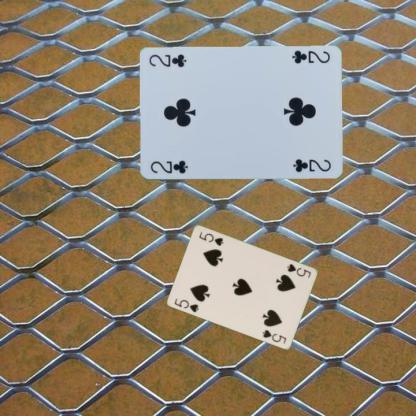2c: (290, 48, 331, 65), (148, 158, 188, 175)
5s: (172, 295, 200, 313), (285, 261, 312, 279)
